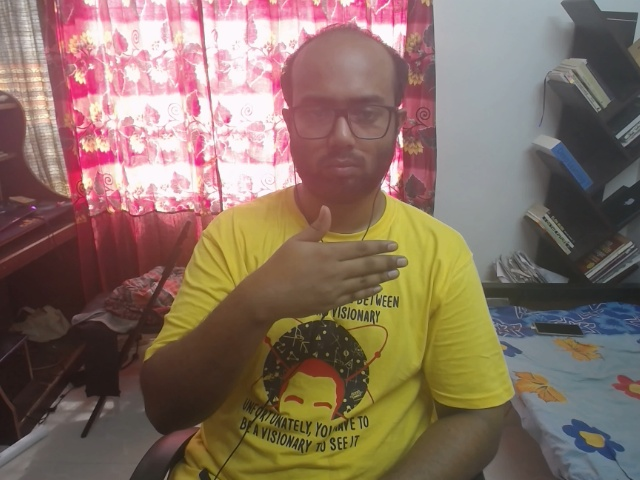north: (210, 176, 445, 362)
